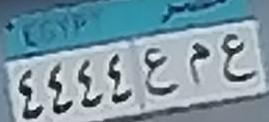4: (47, 53, 76, 115), (107, 43, 132, 112), (75, 52, 99, 113), (21, 60, 45, 115)
ع: (140, 38, 176, 103), (217, 29, 250, 88)
م: (188, 27, 220, 94)
